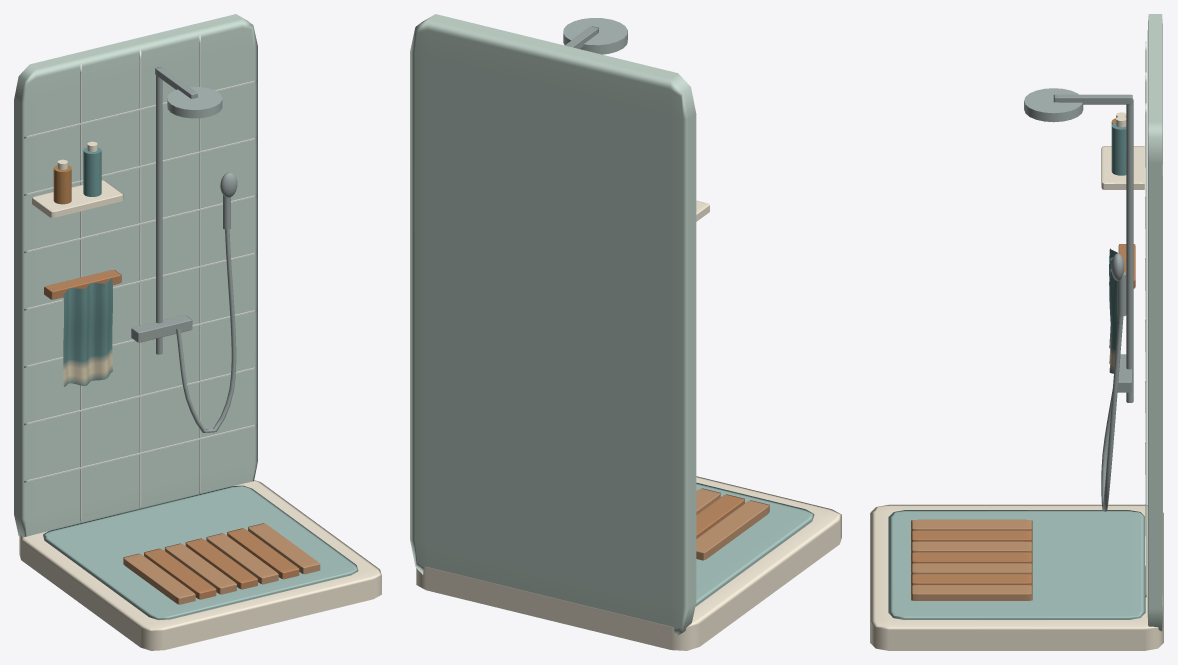
Rendered from apartment-shower-v1.glb.
The picture shows the model from 3 angles, left to right: view 1: azimuth 30°, elevation 25°; view 2: azimuth 150°, elevation 25°; view 3: azimuth 270°, elevation 25°; orthographic projection. The views are drawn at different scales.
Visible parts, largest first — view 1: Tile-back, Inset, Pan, Teak-slat (×7), Draped-hand-towel, Tile-joint (×3), Riser, Grout (×3), Handshower-hose, Wall-shelf, Bottle (×2), Shower-head (+2 smaller); view 2: Tile-back, Pan, Inset, Teak-slat (×2), Shower-head; view 3: Inset, Pan, Teak-slat (×7), Tile-back, Riser, Shower-head, Handshower-hose, Wall-shelf, Draped-hand-towel, Shower-arm, Bottle, Tile-joint (+1 smaller).
Part boxes in pixels (bbox=[...]): Tile-back: bbox=[14, 14, 257, 536]; Inset: bbox=[43, 485, 358, 620]; Pan: bbox=[19, 480, 381, 650]; Teak-slat (×7): bbox=[123, 523, 320, 604]; Draped-hand-towel: bbox=[63, 278, 112, 386]; Tile-joint (×3): bbox=[80, 34, 200, 522]; Riser: bbox=[156, 75, 162, 354]; Grout (×3): bbox=[24, 195, 257, 482]; Handshower-hose: bbox=[176, 229, 236, 432]; Wall-shelf: bbox=[32, 180, 123, 217]; Bottle (×2): bbox=[53, 147, 101, 204]; Shower-head: bbox=[167, 86, 222, 118]; Tile-back: bbox=[410, 14, 696, 636]; Pan: bbox=[416, 476, 841, 650]; Inset: bbox=[695, 482, 814, 606]; Teak-slat (×2): bbox=[696, 494, 769, 560]; Shower-head: bbox=[563, 18, 627, 54]; Inset: bbox=[888, 510, 1145, 619]; Pan: bbox=[870, 504, 1163, 650]; Teak-slat (×7): bbox=[911, 519, 1032, 600]; Tile-back: bbox=[1147, 14, 1162, 631]; Riser: bbox=[1126, 99, 1133, 402]; Shower-head: bbox=[1024, 88, 1083, 122]; Handshower-hose: bbox=[1101, 316, 1123, 511]; Wall-shelf: bbox=[1101, 146, 1144, 189]; Draped-hand-towel: bbox=[1109, 248, 1118, 373]; Shower-arm: bbox=[1053, 94, 1132, 104]; Bottle: bbox=[1111, 122, 1126, 175]; Tile-joint: bbox=[1145, 103, 1146, 597].
Size of the model in its own units: 1.05 by 2.04 by 1.04.
